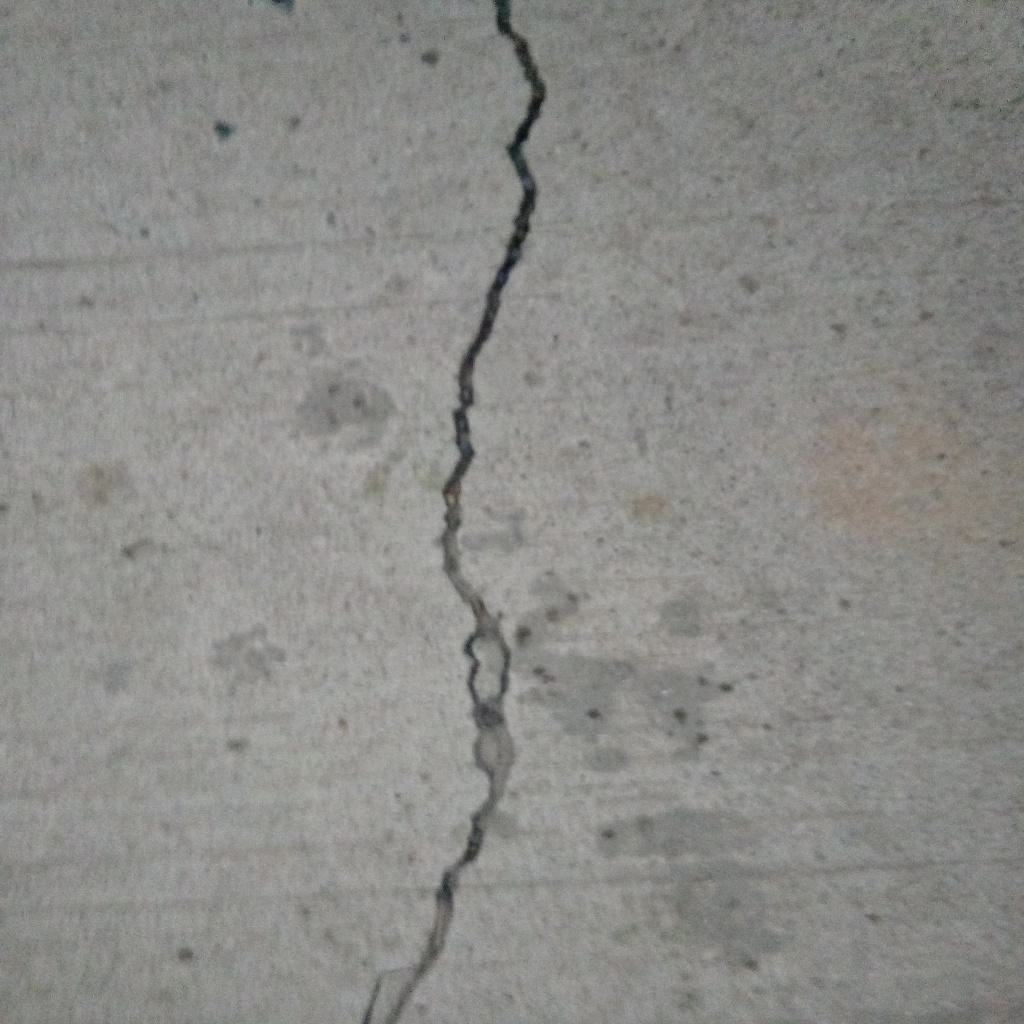Crack: (358, 1, 550, 1024)
